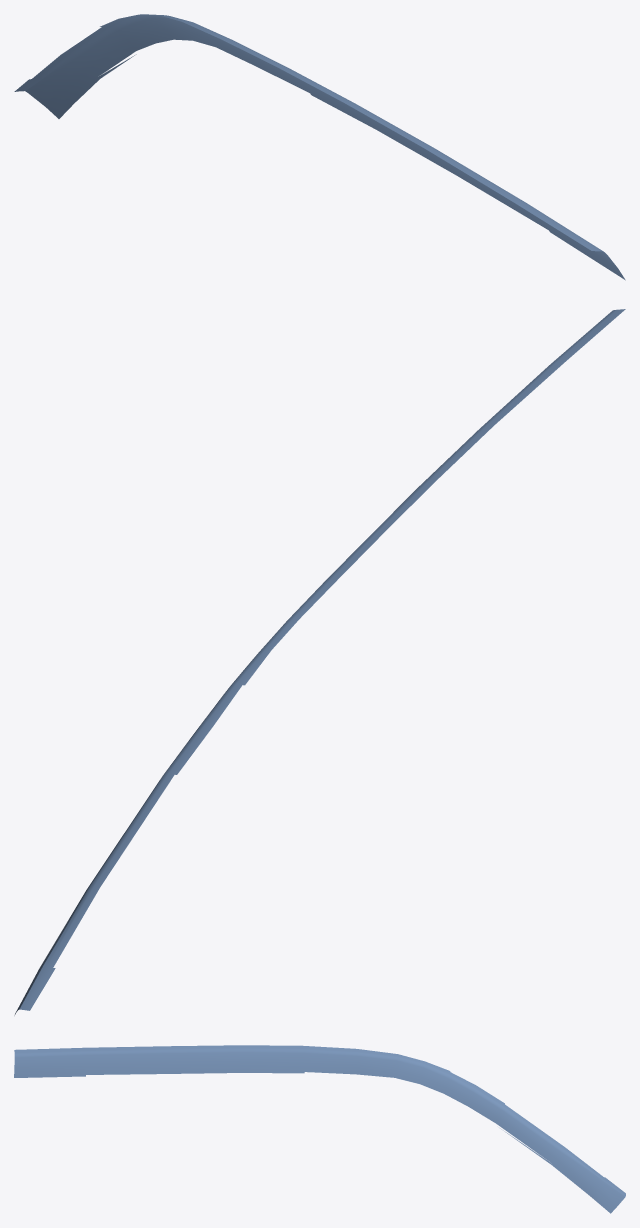
File: a_post2.fbx
3 renders of one model, top to bottom at view 1: azimuth 30°, elevation 25°; view 2: azimuth 150°, elevation 25°; view 3: azimuth 270°, elevation 25°, orthographic. The views are drawn at different scales.
Visible parts, largest first — view 1: chassis_001.013; view 2: chassis_001.013; view 3: chassis_001.013.
Part boxes in pixels (x1,y1,x2,y2): chassis_001.013: (14,14,625,280); chassis_001.013: (14,309,625,1015); chassis_001.013: (14,1045,625,1213).
Bounding box in the file's own units: 20.39 × 71.51 × 257.
